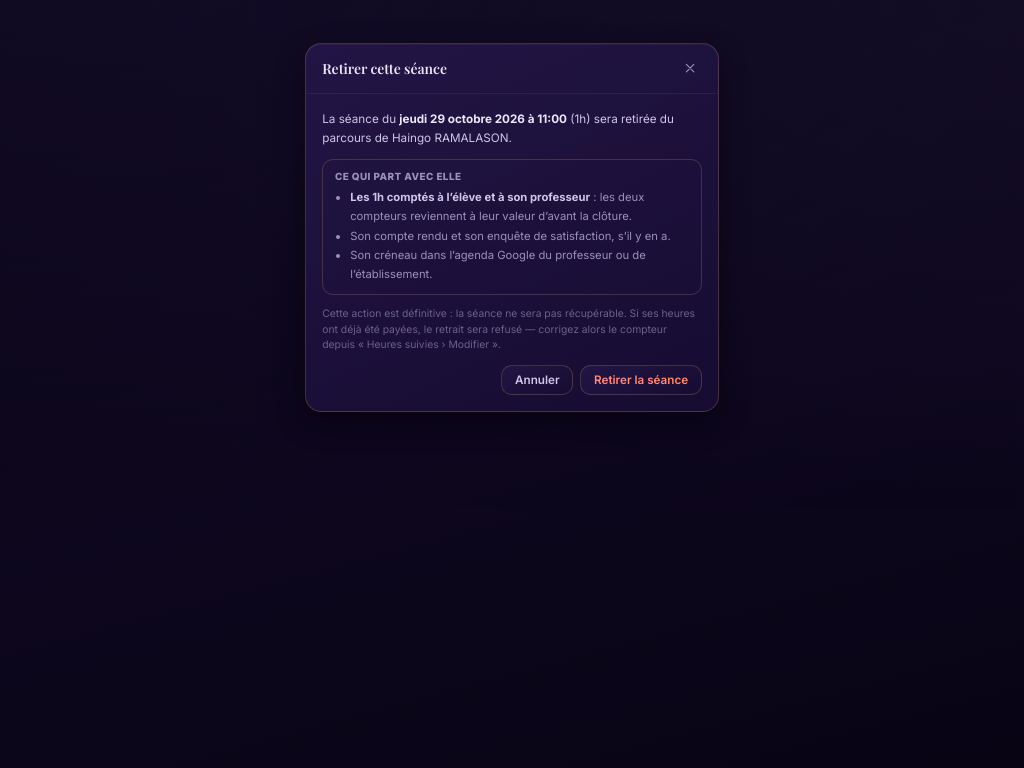
RetirerSeanceModale › affiche le refus du serveur plutôt qu’un message générique
Click the button "Retirer la séance": (641, 380) [580,365,702,395]
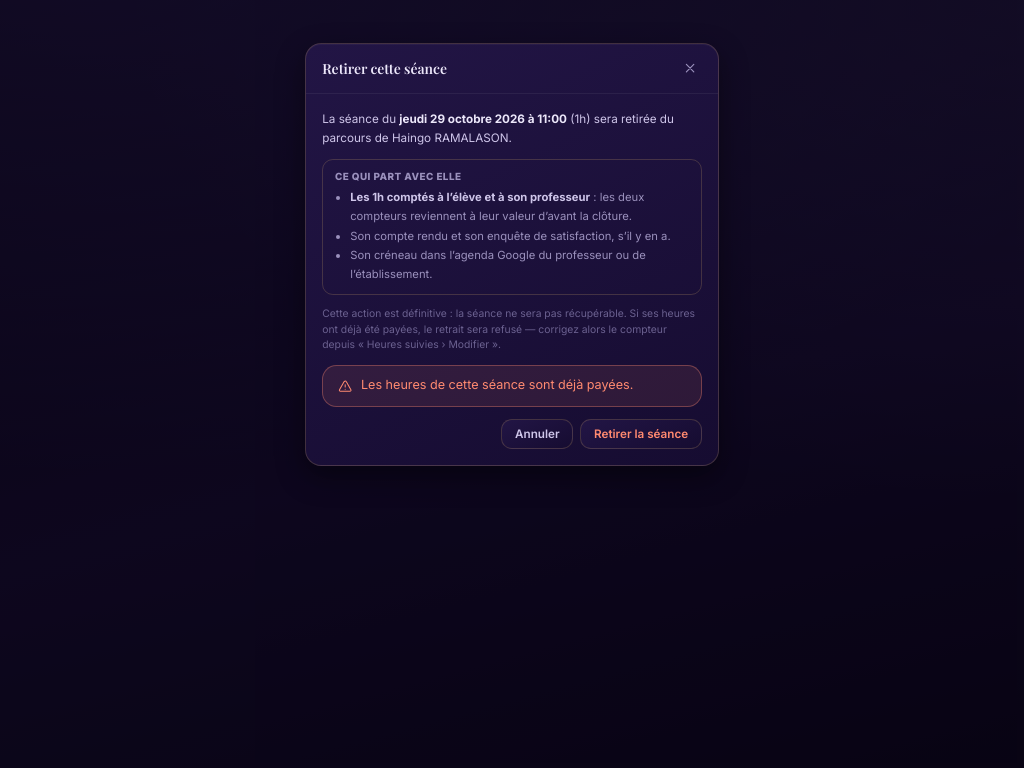
Expected: the text "Les heures de cette séance sont déjà payées." is shown, [361,376,633,395]
